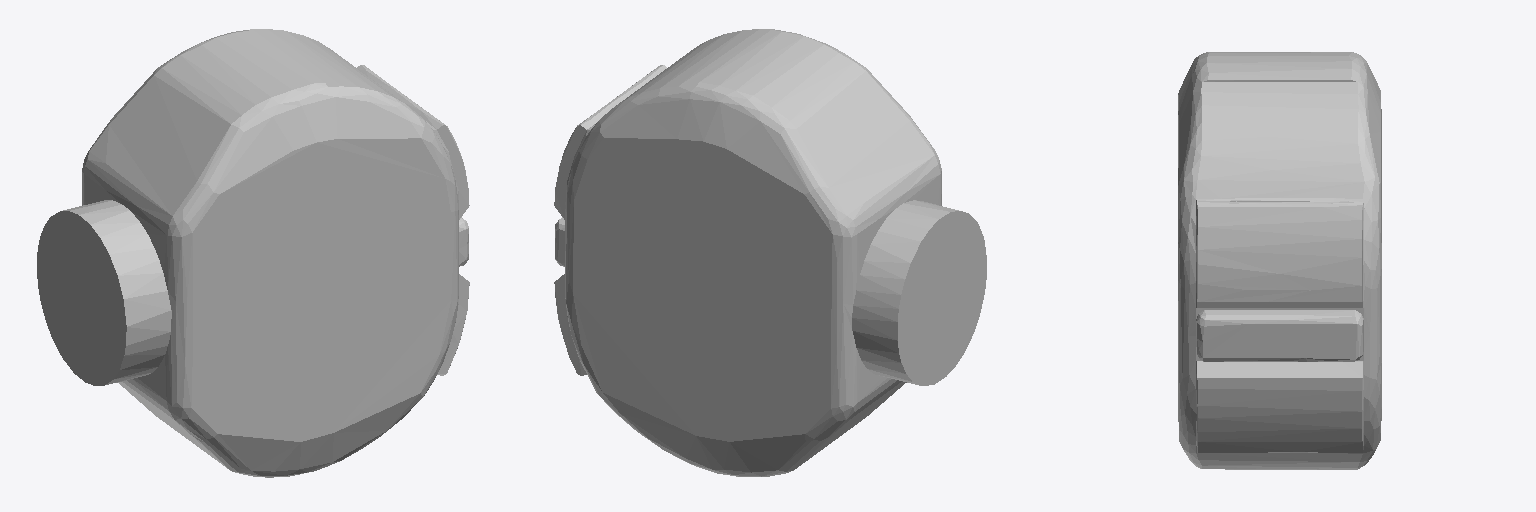
File: gripper_palm.obj
3 renders of one model, left to right at view 1: azimuth 30°, elevation 25°; view 2: azimuth 150°, elevation 25°; view 3: azimuth 270°, elevation 25°, orthographic.
Parts seen in each view (by area): view 1: palm3_M1000_palm3_M1000Shape; view 2: palm3_M1000_palm3_M1000Shape; view 3: palm3_M1000_palm3_M1000Shape.
Boxes of the visible parts, <box> form: palm3_M1000_palm3_M1000Shape: <box>37,29,469,477</box>; palm3_M1000_palm3_M1000Shape: <box>554,29,986,476</box>; palm3_M1000_palm3_M1000Shape: <box>1178,52,1381,469</box>.
Bounding box in the file's own units: 0.0961 × 0.102 × 0.0485.